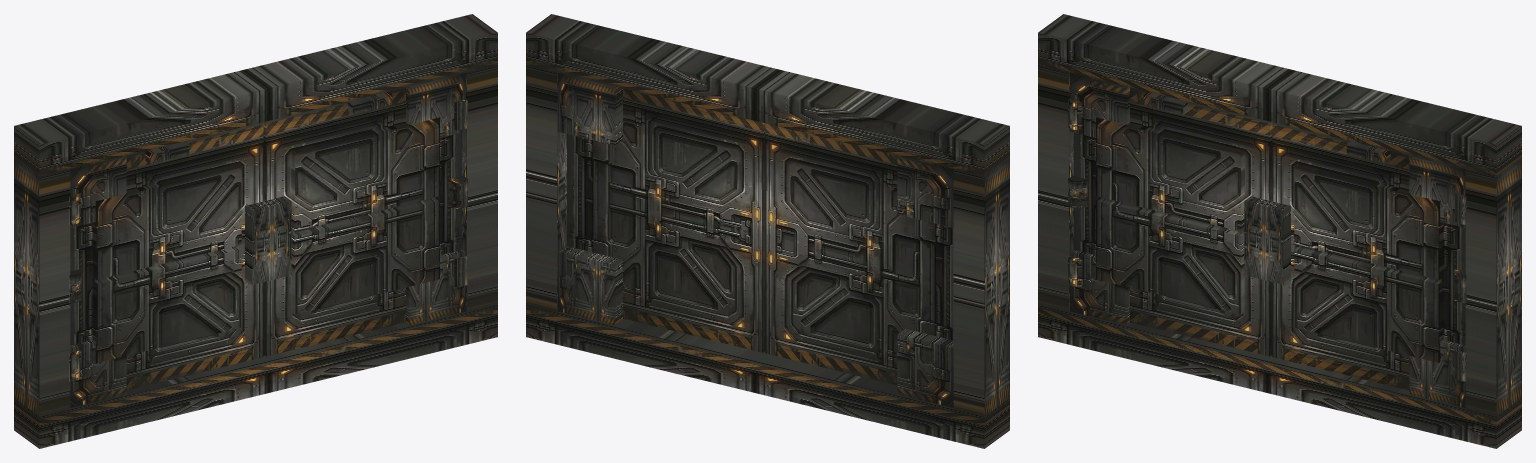
The model's file is hangar_kapi_dis_ankora.glb.
3 renders of one model, left to right at view 1: azimuth 30°, elevation 25°; view 2: azimuth 150°, elevation 25°; view 3: azimuth 330°, elevation 25°, orthographic.
Parts seen in each view (by area): view 1: LOD0_kapi; view 2: LOD0_kapi; view 3: LOD0_kapi.
Boxes of the visible parts, <box> form: LOD0_kapi: <box>14,14,497,448</box>; LOD0_kapi: <box>526,14,1009,448</box>; LOD0_kapi: <box>1038,14,1521,448</box>.
Size of the model in its own units: 10.4 by 6.6 by 1.12.
1 material, 1 textured.
